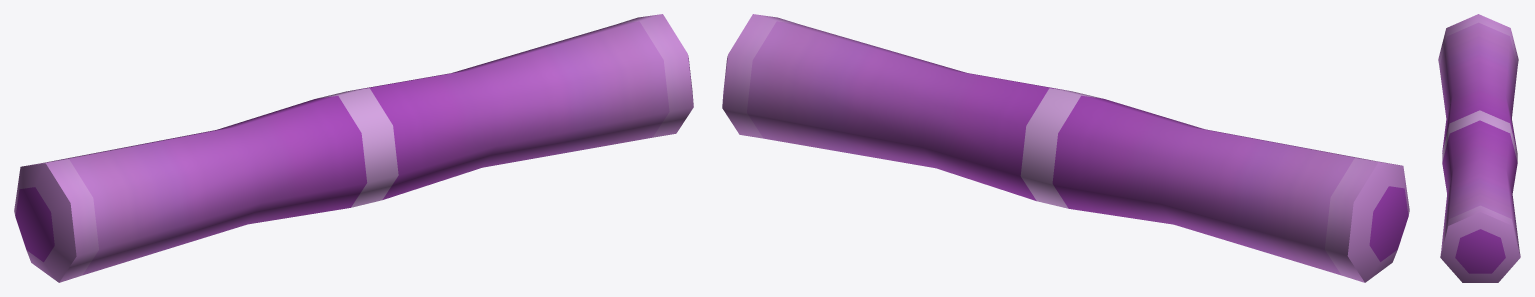
The model's file is Bridge_SingleLog_01.glb.
3 views of the same model, side by side, from view 1: azimuth 30°, elevation 25°; view 2: azimuth 150°, elevation 25°; view 3: azimuth 270°, elevation 25° (orthographic). The views are drawn at different scales.
Visible parts, largest first — view 1: Bridge_SingleLog_01; view 2: Bridge_SingleLog_01; view 3: Bridge_SingleLog_01.
Boxes of the visible parts, left/top/right/bottom form: Bridge_SingleLog_01: left=14, top=14, right=693, bottom=282; Bridge_SingleLog_01: left=722, top=14, right=1409, bottom=282; Bridge_SingleLog_01: left=1438, top=14, right=1520, bottom=282.
Size of the model in its own units: 2.85 by 0.4783 by 0.4897.
1 material, 1 textured.
